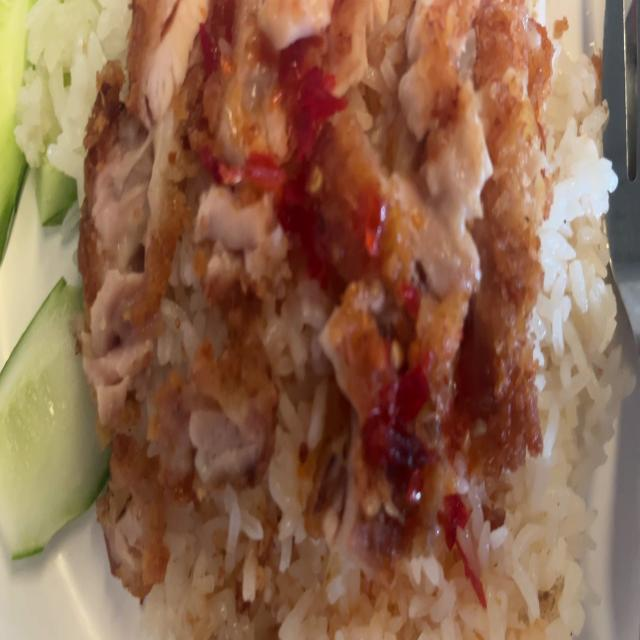chicken_rice: (0, 0, 640, 640)
cucumber: (0, 269, 121, 560), (0, 0, 33, 265), (33, 54, 81, 230)
fried_chicken: (81, 4, 548, 596)
